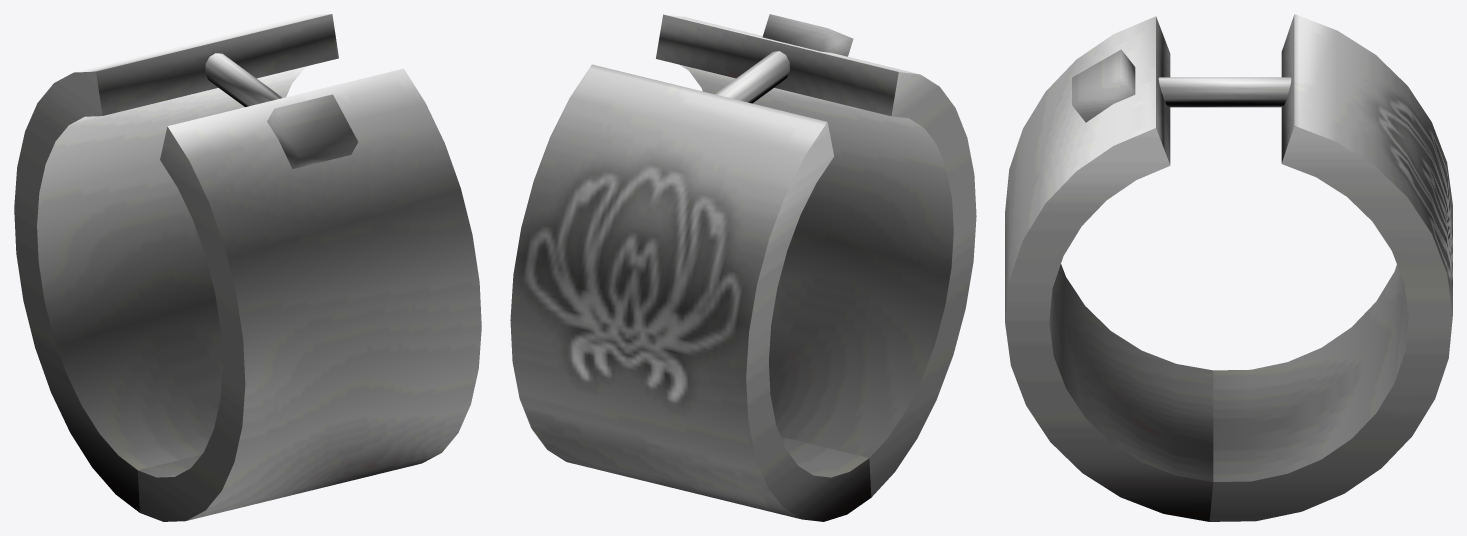
File: SAVE.ICO.obj
3 renders of one model, left to right at view 1: azimuth 30°, elevation 25°; view 2: azimuth 150°, elevation 25°; view 3: azimuth 270°, elevation 25°, orthographic. The views are drawn at different scales.
Size of the model in its own units: 1.58 by 2.66 by 2.68.
Materials: 1 (1 with a texture image).
